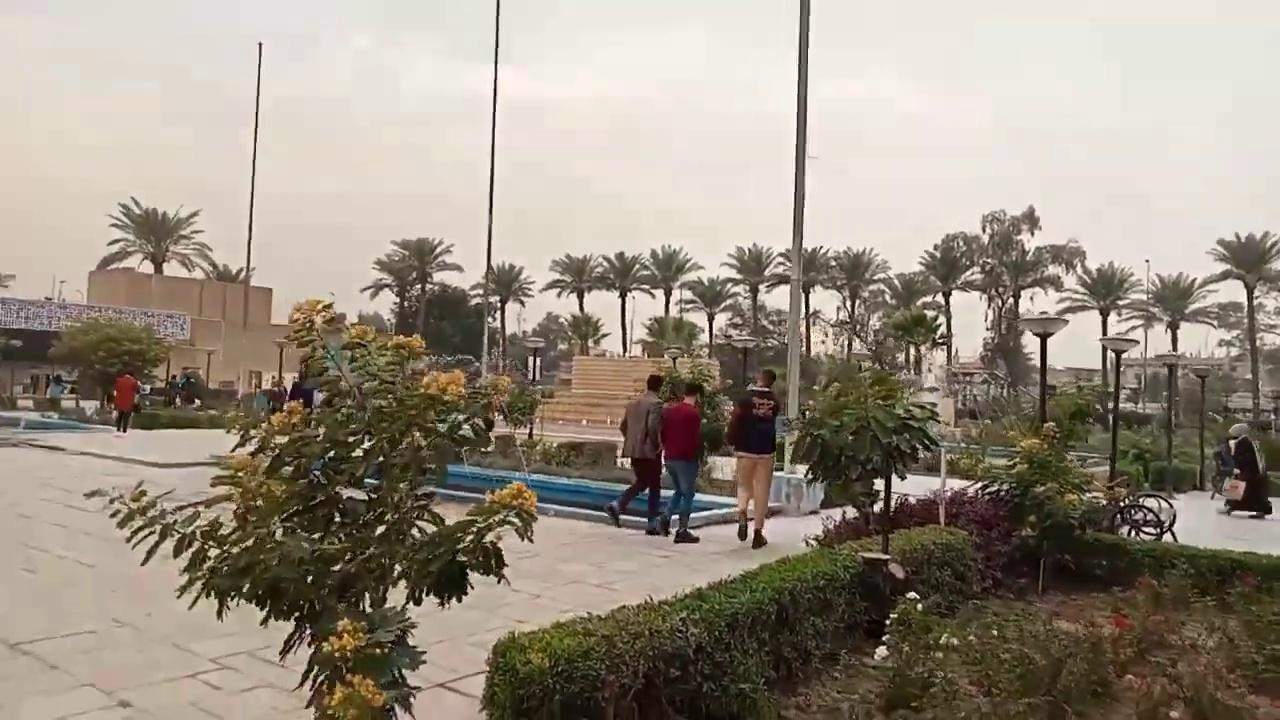fountain: (429, 350, 827, 526)
person: (724, 368, 780, 549), (603, 373, 665, 535), (655, 380, 704, 543), (1215, 422, 1272, 517), (112, 367, 141, 433), (45, 373, 66, 418), (165, 373, 179, 408)
tree: (84, 295, 541, 718), (788, 356, 943, 552), (955, 203, 1084, 396), (1120, 270, 1219, 496), (1055, 259, 1144, 431), (1201, 229, 1279, 423), (46, 314, 173, 409), (359, 235, 463, 341), (95, 194, 214, 276), (916, 233, 981, 368), (819, 244, 891, 359), (654, 358, 732, 459), (538, 251, 609, 355), (470, 259, 534, 374), (640, 243, 703, 353), (718, 241, 790, 336), (1055, 258, 1143, 335), (593, 250, 655, 356), (775, 244, 832, 357), (1144, 270, 1217, 353), (877, 270, 935, 374), (678, 274, 741, 358), (359, 250, 420, 335), (636, 314, 698, 358), (558, 311, 610, 355), (211, 262, 255, 282)
